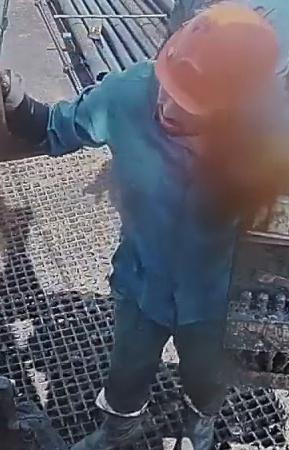gloves: (0, 69, 26, 118)
helmet: (154, 1, 281, 118)
vest: (101, 58, 250, 330)
